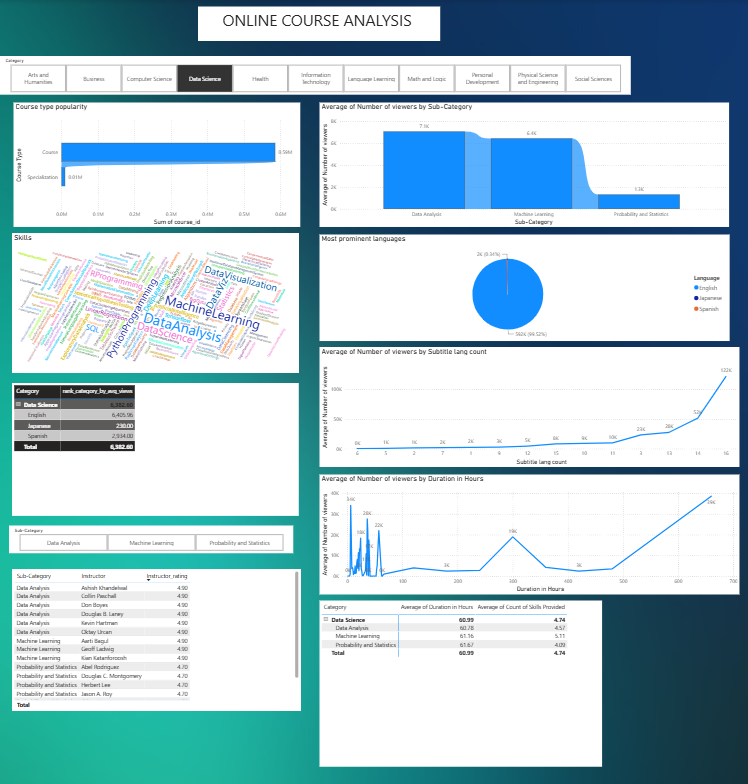

The dashboard page shown, as its layout file describes it:
{"tool":"powerbi","page":{"name":"Page 1","canvas":[1800,1900],"ordinal":0},"visuals":[{"type":"textbox","box":[472,18,576,82],"z":0},{"type":"slicer","fields":{"Values":["Online_Courses.Category"]},"box":[0,134,1500,92],"z":1000},{"type":"barChart","title":"Course type popularity ","fields":{"Category":["Online_Courses.Course Type"],"Y":["Sum(Online_Courses.course_id)"]},"box":[33,246,682,296],"z":2000},{"type":"columnChart","fields":{"Category":["Online_Courses.Sub-Category","Online_Courses.Language"],"Y":["Avg(Online_Courses.Number of viewers)"]},"box":[760,246,640,296],"z":3000},{"type":"WordCloud1447959067750","fields":{"Category":["Online_Courses.Skills"]},"box":[28,558,682,332],"z":4000},{"type":"pieChart","title":"Most prominent languages ","fields":{"Category":["Online_Courses.Language"],"Y":["Sum(Online_Courses.course_id)"]},"box":[760,558.3,975,253.3],"z":5000},{"type":"pivotTable","fields":{"Rows":["Online_Courses.Category","Online_Courses.Language"],"Values":["Online_Courses.rank_category_by_avg_views"]},"box":[28,914,682,316],"z":5001},{"type":"lineChart","fields":{"Category":["Online_Courses.Subtitle lang count"],"Y":["Avg(Online_Courses.Number of viewers)"]},"box":[760,827,998.3,285],"z":5002},{"type":"tableEx","fields":{"Values":["Teachers.Sub-Category","Teachers.Instructor","Teachers.Instructor_rating"]},"box":[28.3,1355,686.7,336.7],"z":5003},{"type":"slicer","fields":{"Values":["Teachers.Sub-Category"]},"box":[23,1252,676,66],"z":5004},{"type":"lineChart","fields":{"Category":["Online_Courses.Duration in Hours "],"Y":["Avg(Online_Courses.Number of viewers)"]},"box":[760,1131.7,931.7,283.3],"z":5005},{"type":"pivotTable","fields":{"Rows":["Online_Courses.Category","Online_Courses.Sub-Category"],"Values":["Avg(Online_Courses.Duration in Hours )","Avg(Online_Courses.Count of Skills Provided )"]},"box":[760,1430,671.7,395],"z":5006}]}

Visuals, with their boxes in screenshot pixels (x1, y1, x2, y2), scaled from the page's 1800x1900 canvas onto the 748x784 screenshot:
textbox: <region>196, 7, 436, 41</region>
slicer - Online_Courses.Category: <region>0, 55, 623, 93</region>
"Course type popularity " barChart: <region>14, 102, 297, 224</region>
columnChart - Online_Courses.Sub-Category x Online_Courses.Language: <region>316, 102, 582, 224</region>
WordCloud1447959067750 - Online_Courses.Skills: <region>12, 230, 295, 367</region>
"Most prominent languages " pieChart: <region>316, 230, 721, 335</region>
pivotTable - Online_Courses.Category x Online_Courses.Language: <region>12, 377, 295, 508</region>
lineChart - Online_Courses.Subtitle lang count x Avg(Online_Courses.Number of viewers): <region>316, 341, 731, 459</region>
tableEx - Teachers.Sub-Category x Teachers.Instructor: <region>12, 559, 297, 698</region>
slicer - Teachers.Sub-Category: <region>10, 517, 290, 544</region>
lineChart - Online_Courses.Duration in Hours  x Avg(Online_Courses.Number of viewers): <region>316, 467, 703, 584</region>
pivotTable - Online_Courses.Category x Online_Courses.Sub-Category: <region>316, 590, 595, 753</region>
